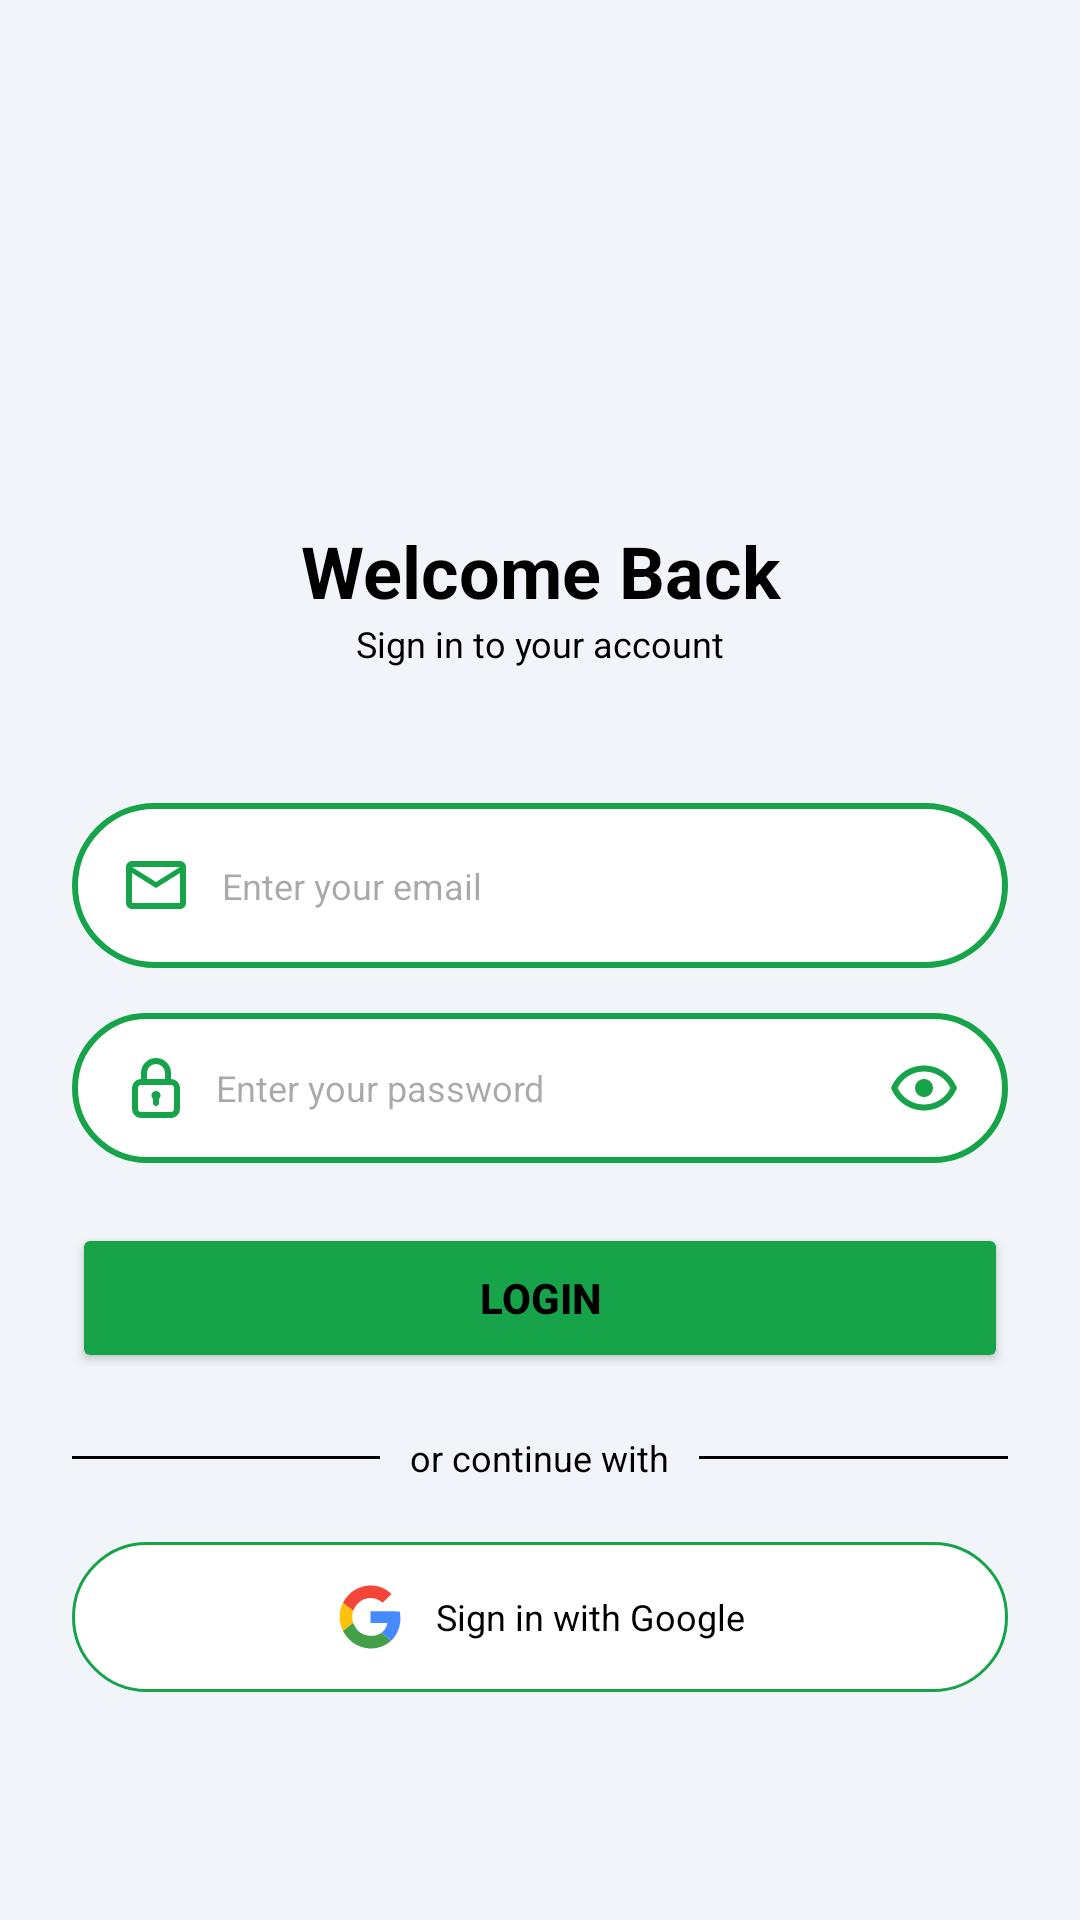

Icon bounding boxes for this 1080px×1920px phone screenshot, format (x1, y1, x2, y2):
lock: (132, 1058, 180, 1118)
mata: (891, 1065, 957, 1111)
